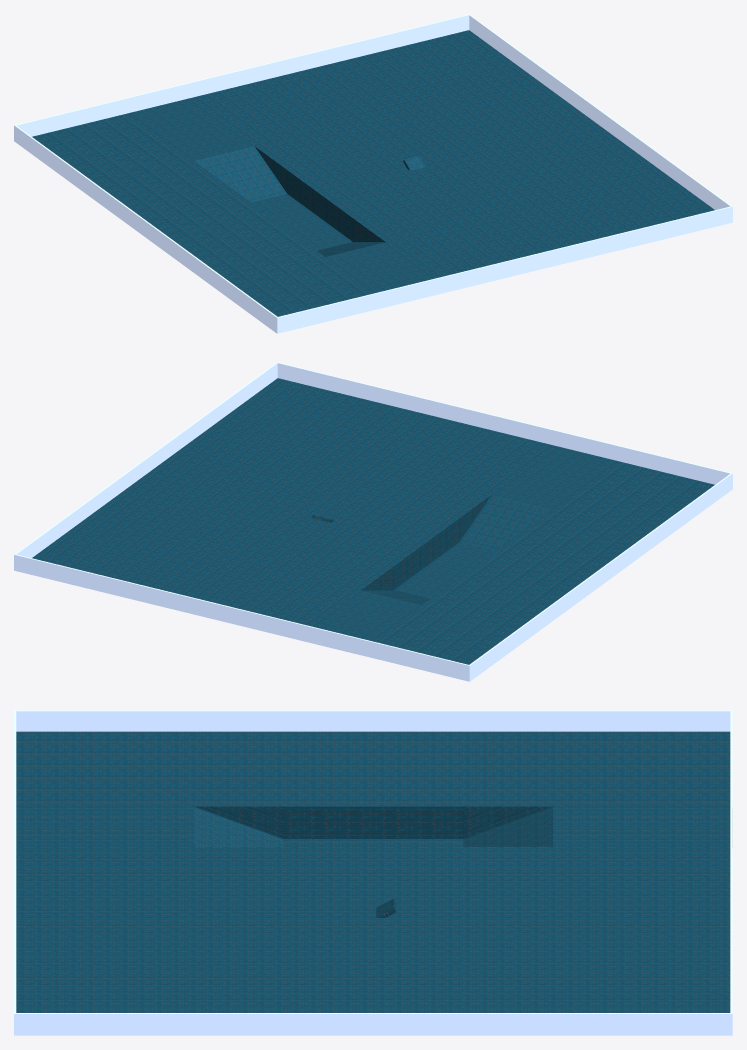
The model's file is arena1.glb.
3 renders of one model, top to bottom at view 1: azimuth 30°, elevation 25°; view 2: azimuth 150°, elevation 25°; view 3: azimuth 270°, elevation 25°, orthographic. The views are drawn at different scales.
Visible parts, largest first — view 1: ground, wall1, wall4, wall3, wall2; view 2: ground, wall4, wall1, wall3, wall2; view 3: ground, wall2, wall3, wall1, wall4.
Boxes of the visible parts, bbox=[...] form: ground: bbox=[32, 30, 714, 316]; wall1: bbox=[276, 206, 732, 333]; wall4: bbox=[14, 14, 469, 140]; wall3: bbox=[14, 125, 278, 333]; wall2: bbox=[469, 14, 732, 209]; ground: bbox=[32, 378, 714, 664]; wall4: bbox=[15, 554, 470, 681]; wall1: bbox=[276, 362, 732, 489]; wall3: bbox=[468, 473, 732, 681]; wall2: bbox=[14, 362, 277, 570]; ground: bbox=[16, 731, 730, 1012]; wall2: bbox=[14, 1013, 732, 1035]; wall3: bbox=[16, 710, 732, 731]; wall1: bbox=[14, 710, 16, 1035]; wall4: bbox=[730, 711, 732, 1035].
Size of the model in its own units: 300 by 25.05 by 300.
Materials: 2 (1 with a texture image).
